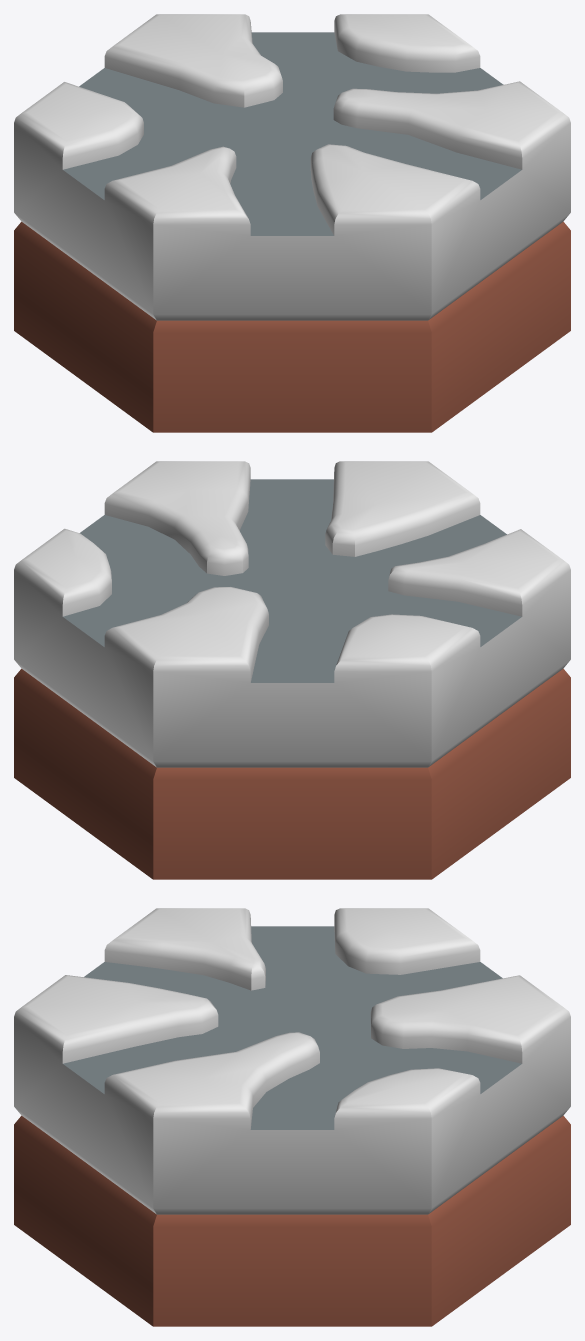
File: hex_snow_roadM_detail.gltf.glb
3 renders of one model, top to bottom at view 1: azimuth 30°, elevation 25°; view 2: azimuth 150°, elevation 25°; view 3: azimuth 270°, elevation 25°, orthographic.
Visible parts, largest first — view 1: hex_snow_roadM_detail; view 2: hex_snow_roadM_detail; view 3: hex_snow_roadM_detail.
Boxes of the visible parts, x1,y1,x2,y2 form: hex_snow_roadM_detail: (14, 14, 570, 432); hex_snow_roadM_detail: (14, 461, 570, 879); hex_snow_roadM_detail: (14, 908, 570, 1326).
Bounding box in the file's own units: 2 × 1 × 2.31.
